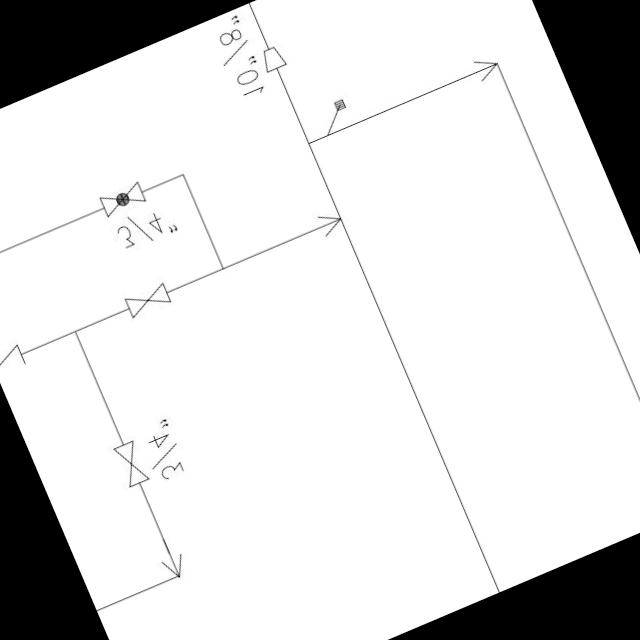BV2: (88, 172, 154, 226)
GV: (115, 274, 178, 325), (106, 434, 156, 494)
SP: (256, 41, 290, 79)
